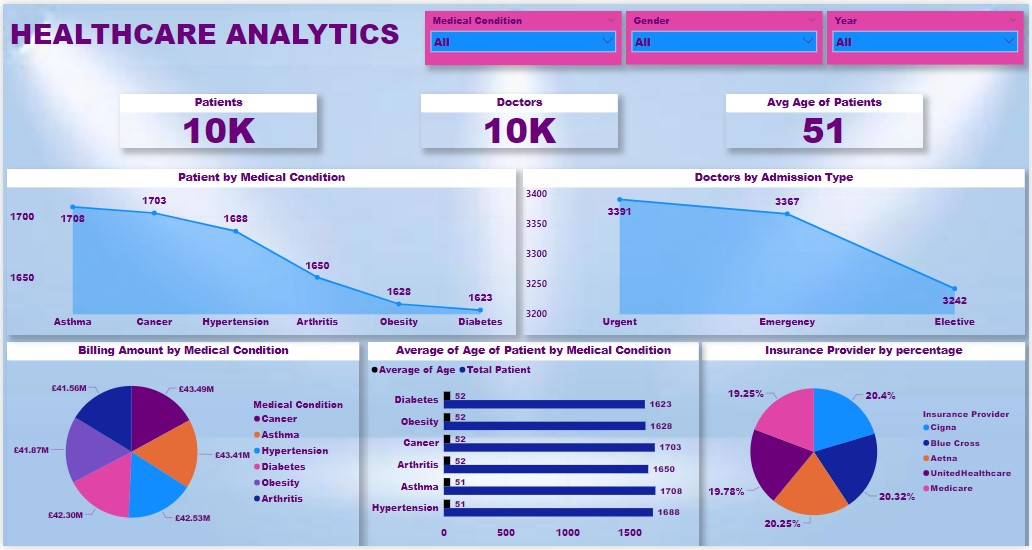

The page's visual inventory and layout, read from the dashboard file:
{"tool":"powerbi","page":{"name":"Health Data","canvas":[1800,950],"ordinal":1},"visuals":[{"type":"pieChart","title":"Billing Amount by Medical Condition","fields":{"Category":["healthcare_dataset.Medical Condition"],"Y":["Sum(healthcare_dataset.Billing Amount)"]},"box":[7.3,592.7,618.2,358.2],"z":0},{"type":"pieChart","title":" Insurance Provider by percentage","fields":{"Y":["healthcare_dataset.Total Patient"],"Category":["healthcare_dataset.Insurance Provider"]},"box":[1225.5,592.7,567.3,358.2],"z":1000},{"type":"areaChart","title":"Patient by Medical Condition","fields":{"Category":["healthcare_dataset.Medical Condition"],"Y":["healthcare_dataset.Total Patient"]},"box":[7.3,289.1,892.7,290.9],"z":2000},{"type":"clusteredBarChart","title":"Average of Age of Patient by Medical Condition","fields":{"Y":["Avg(healthcare_dataset.Age)","healthcare_dataset.Total Patient"],"Category":["healthcare_dataset.Medical Condition"]},"box":[636.8,592.1,578.9,357.9],"z":3000},{"type":"areaChart","title":"Doctors by Admission Type","fields":{"Category":["healthcare_dataset.Admission Type"],"Y":["healthcare_dataset.Total Doctors"]},"box":[912.7,289.1,880,290.9],"z":4000},{"type":"card","title":"Patients","fields":{"Values":["healthcare_dataset.Total Patient"]},"box":[7,157.9,586,110.5],"z":5000},{"type":"card","title":"Doctors","fields":{"Values":["healthcare_dataset.Total Doctors"]},"box":[607,157.9,586,110.5],"z":6000},{"type":"card","title":"Avg Age of Patients","fields":{"Values":["Avg(healthcare_dataset.Age)"]},"box":[1205.3,157.9,586,110.5],"z":7000},{"type":"slicer","fields":{"Values":["healthcare_dataset.Medical Condition"]},"box":[740,12.7,345.5,94.5],"z":8000},{"type":"slicer","fields":{"Values":["healthcare_dataset.Gender"]},"box":[1092.7,12.7,345,94],"z":9000},{"type":"slicer","fields":{"Values":["healthcare_dataset.Discharge Date.Variation.Date Hierarchy.Year"]},"box":[1445.5,12.7,345,94],"z":10000},{"type":"textbox","box":[7.3,12.7,732.7,94.5],"z":11000}]}

Visuals, with their boxes in screenshot pixels (x1, y1, x2, y2), scaled from the page's 1800x950 canvas onto the 1032x550 screenshot:
"Billing Amount by Medical Condition" pieChart: (x1=4, y1=343, x2=359, y2=549)
" Insurance Provider by percentage" pieChart: (x1=703, y1=343, x2=1028, y2=549)
"Patient by Medical Condition" areaChart: (x1=4, y1=167, x2=516, y2=336)
"Average of Age of Patient by Medical Condition" clusteredBarChart: (x1=365, y1=343, x2=697, y2=549)
"Doctors by Admission Type" areaChart: (x1=523, y1=167, x2=1028, y2=336)
"Patients" card: (x1=4, y1=91, x2=340, y2=155)
"Doctors" card: (x1=348, y1=91, x2=684, y2=155)
"Avg Age of Patients" card: (x1=691, y1=91, x2=1027, y2=155)
slicer - healthcare_dataset.Medical Condition: (x1=424, y1=7, x2=622, y2=62)
slicer - healthcare_dataset.Gender: (x1=626, y1=7, x2=824, y2=62)
slicer - healthcare_dataset.Discharge Date.Variation.Date Hierarchy.Year: (x1=829, y1=7, x2=1027, y2=62)
textbox: (x1=4, y1=7, x2=424, y2=62)
